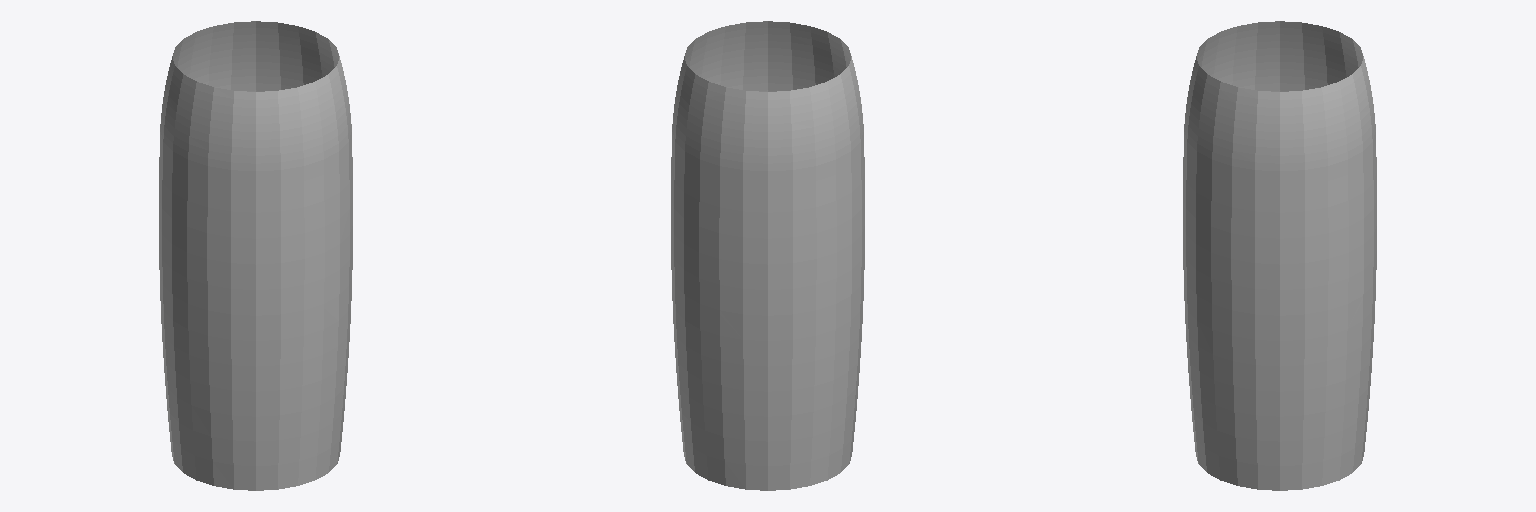
The model's file is original-79.obj.
The picture shows the model from 3 angles: view 1: azimuth 30°, elevation 25°; view 2: azimuth 150°, elevation 25°; view 3: azimuth 270°, elevation 25°; orthographic projection.
Visible parts, largest first — view 1: mesh137/mesh137-geometry#mesh137-geometry; view 2: mesh137/mesh137-geometry#mesh137-geometry; view 3: mesh137/mesh137-geometry#mesh137-geometry.
Part boxes in pixels (x1,y1,x2,y2): mesh137/mesh137-geometry#mesh137-geometry: (159,21,352,490); mesh137/mesh137-geometry#mesh137-geometry: (671,21,864,490); mesh137/mesh137-geometry#mesh137-geometry: (1183,21,1376,490).
Bounding box in the file's own units: 0.0405 × 0.0916 × 0.0405.